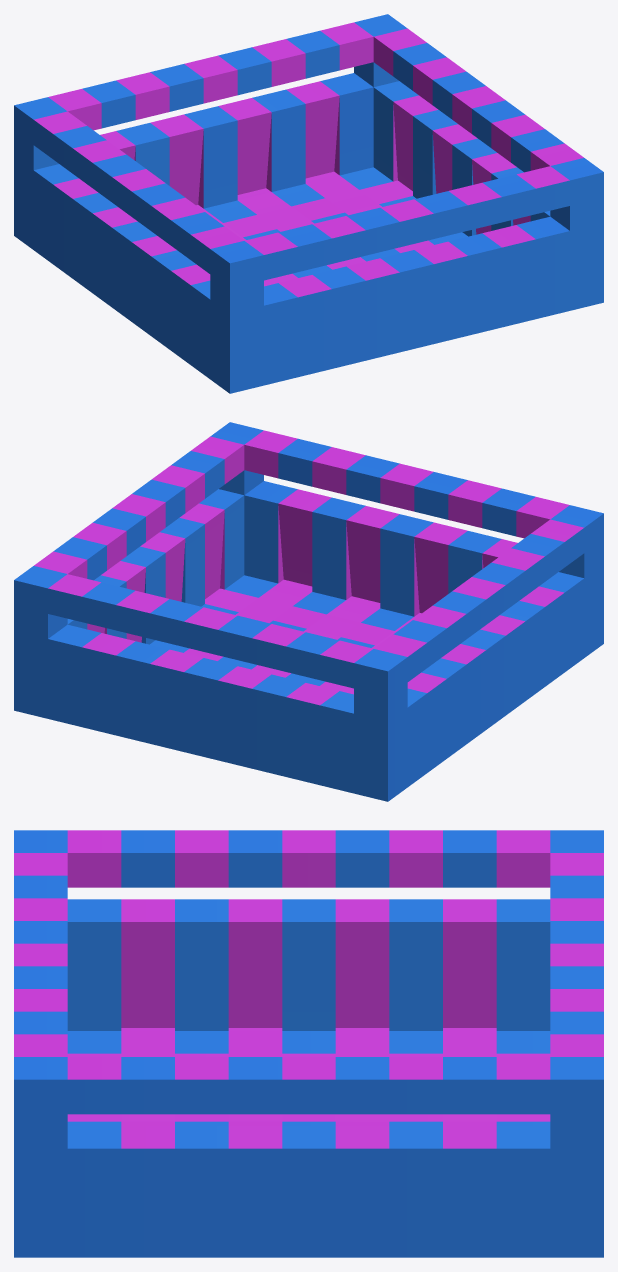
File: Env_7.fbx
3 views of the same model, one above another, from view 1: azimuth 30°, elevation 25°; view 2: azimuth 150°, elevation 25°; view 3: azimuth 270°, elevation 25° (orthographic). The views are drawn at different scales.
Parts seen in each view (by area): view 1: 7; view 2: 7; view 3: 7.
Boxes of the visible parts, box(x1,y1,x2,y2) form: 7: box(14, 14, 603, 393); 7: box(14, 422, 603, 801); 7: box(14, 830, 603, 1257).
Bounding box in the file's own units: 30 × 10 × 30.
1 material, 1 textured.
